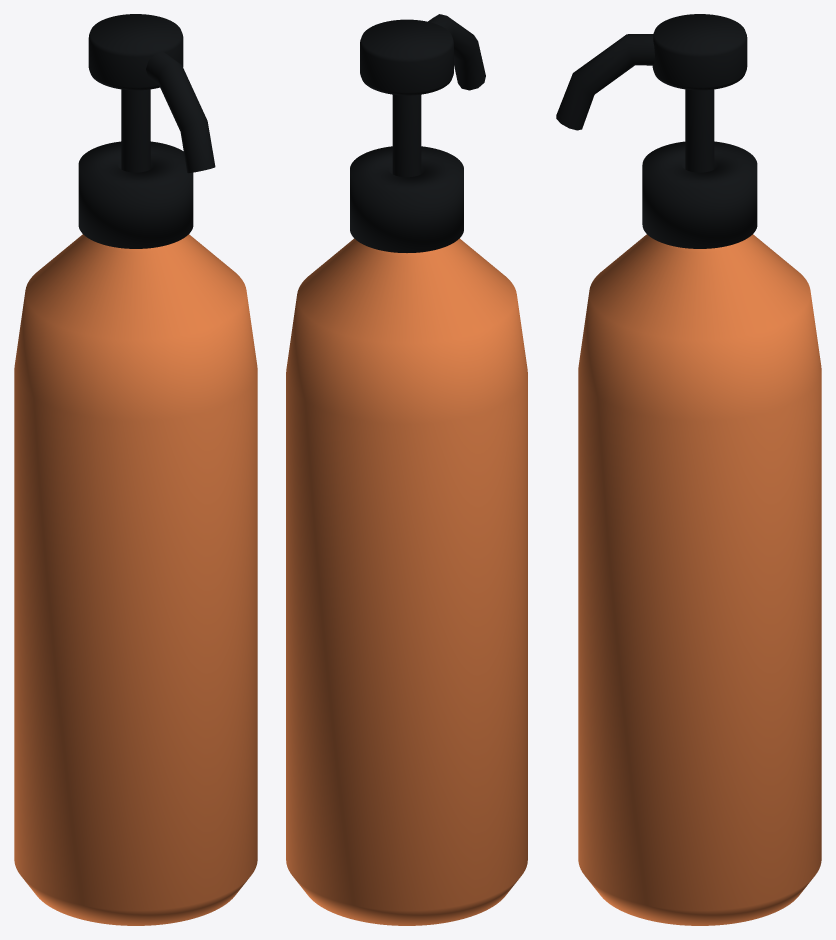
3 renders of one model, left to right at view 1: azimuth 30°, elevation 25°; view 2: azimuth 150°, elevation 25°; view 3: azimuth 270°, elevation 25°, orthographic.
Visible parts, largest first — view 1: body, pump, collar; view 2: body, pump, collar; view 3: body, pump, collar.
Part boxes in pixels (x1=…): body: x1=14, y1=234, x2=257, y2=925; pump: x1=88, y1=14, x2=215, y2=173; collar: x1=78, y1=141, x2=193, y2=248; body: x1=286, y1=238, x2=527, y2=925; pump: x1=360, y1=14, x2=485, y2=177; collar: x1=350, y1=146, x2=463, y2=252; body: x1=578, y1=234, x2=821, y2=925; pump: x1=556, y1=14, x2=747, y2=172; collar: x1=642, y1=141, x2=757, y2=248.
Bounding box in the file's own units: 0.0542 × 0.2086 × 0.0591.
